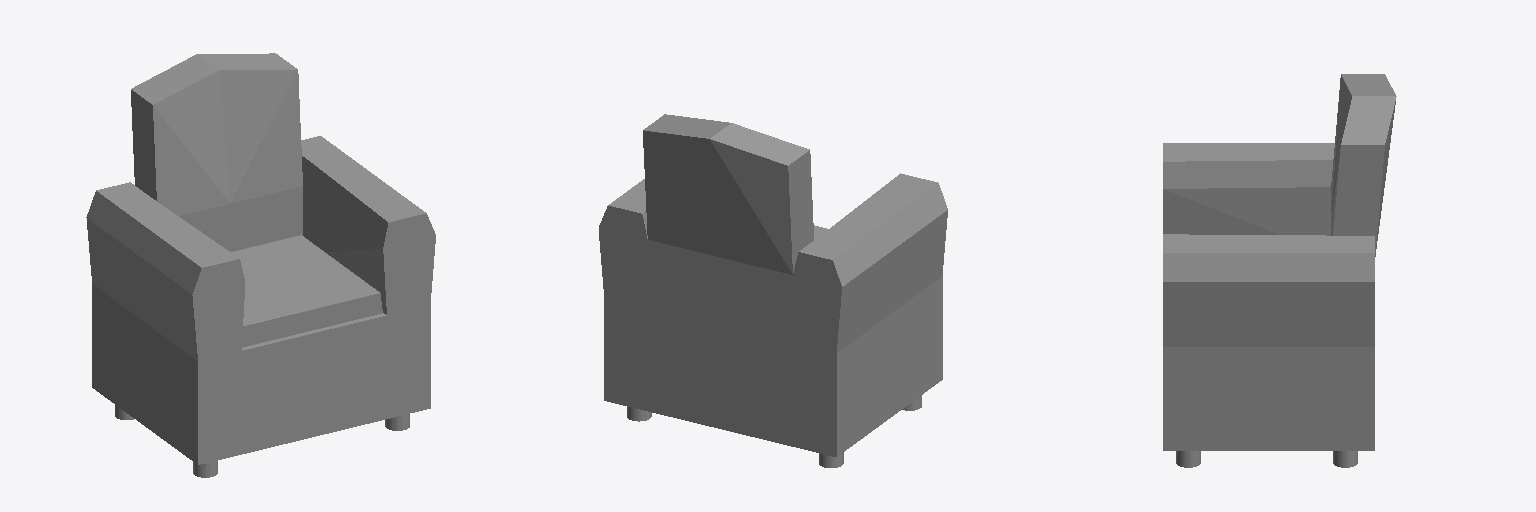
Rendered from Fotoliu.obj.
3 renders of one model, left to right at view 1: azimuth 30°, elevation 25°; view 2: azimuth 150°, elevation 25°; view 3: azimuth 270°, elevation 25°, orthographic.
Visible parts, largest first — view 1: Cube; view 2: Cube; view 3: Cube.
Boxes of the visible parts, x1,y1,x2,y2 form: Cube: [86, 53, 435, 477]; Cube: [599, 114, 947, 467]; Cube: [1163, 74, 1396, 467].
Bounding box in the file's own units: 3.36 × 4.2 × 2.78.